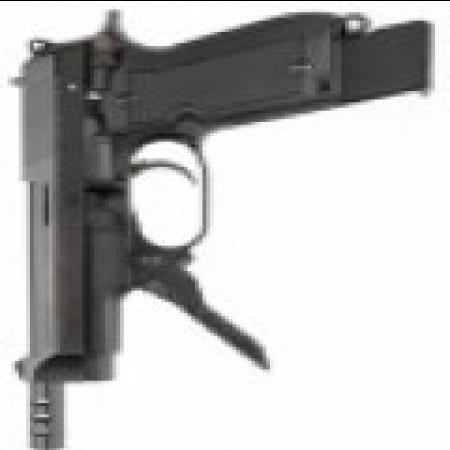Pistol: (3, 11, 352, 391)
